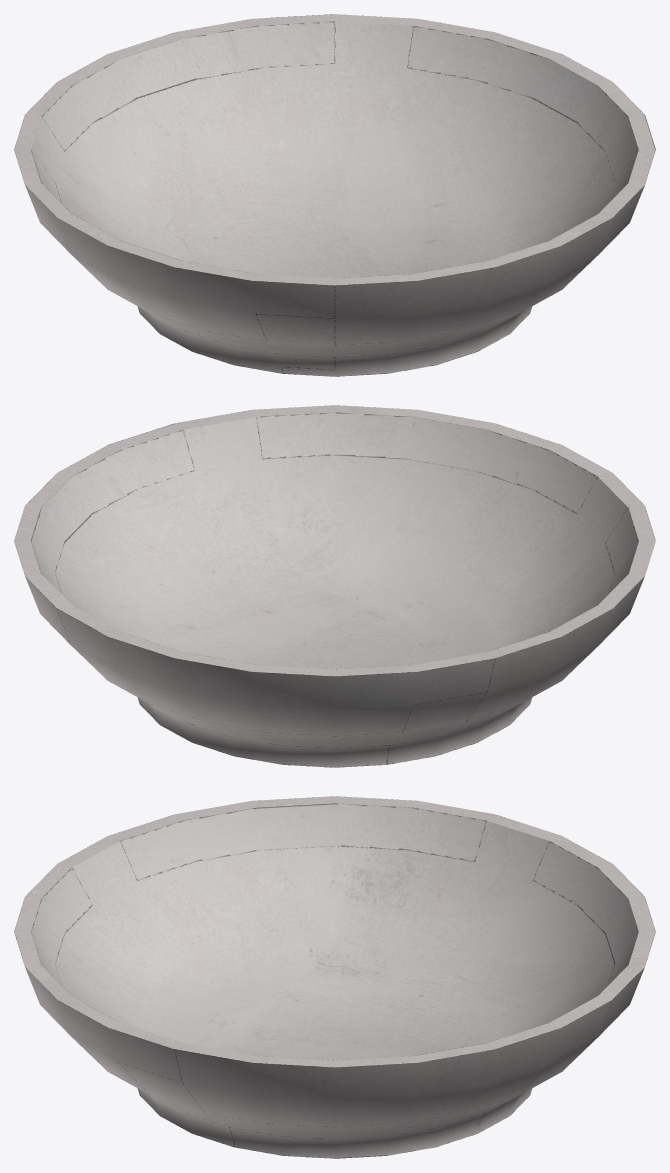
3 views of the same model, one above another, from view 1: azimuth 30°, elevation 25°; view 2: azimuth 150°, elevation 25°; view 3: azimuth 270°, elevation 25° (orthographic).
Visible parts, largest first — view 1: Circle.020_Baked; view 2: Circle.020_Baked; view 3: Circle.020_Baked.
Part boxes in pixels (x1,y1,x2,y2): Circle.020_Baked: [14, 14, 655, 376]; Circle.020_Baked: [14, 405, 655, 767]; Circle.020_Baked: [14, 796, 655, 1158].
Bounding box in the file's own units: 83.02 × 20.18 × 83.02.
Materials: 1 (1 with a texture image).
